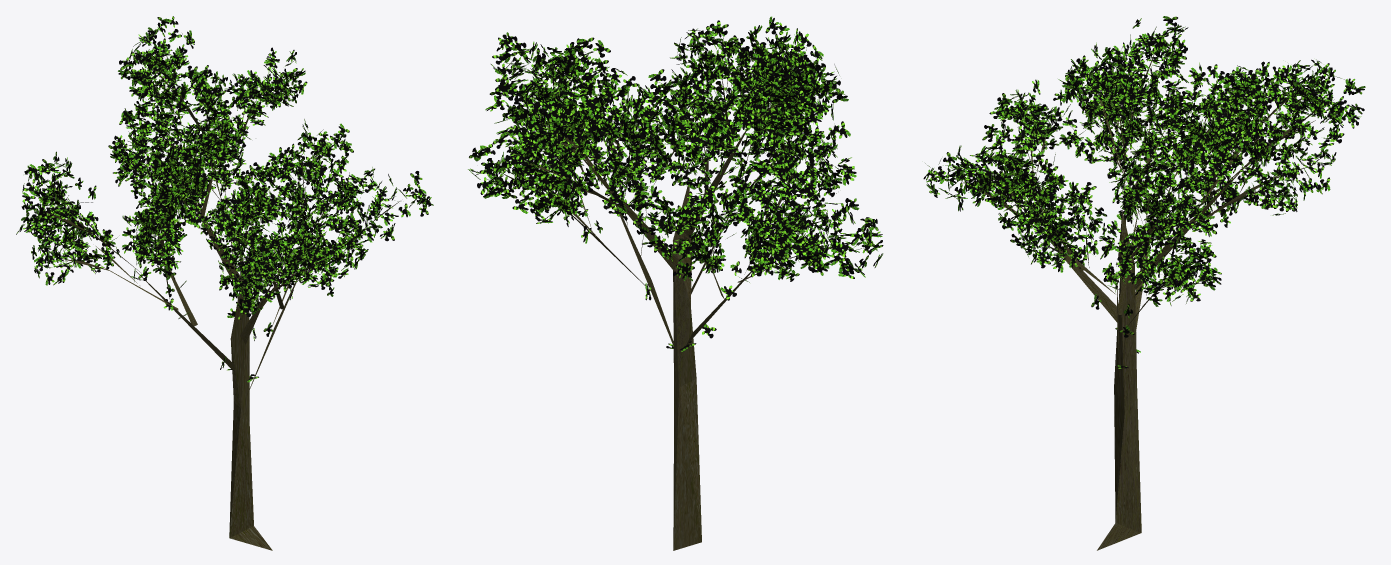
File: emergent_fig_v02_LOD2.fbx
The picture shows the model from 3 angles, left to right: view 1: azimuth 30°, elevation 25°; view 2: azimuth 150°, elevation 25°; view 3: azimuth 270°, elevation 25°; orthographic projection. The views are drawn at different scales.
Parts seen in each view (by area): view 1: emergent_fig_v02_LOD2; view 2: emergent_fig_v02_LOD2; view 3: emergent_fig_v02_LOD2.
Boxes of the visible parts, x1,y1,x2,y2 form: emergent_fig_v02_LOD2: (16, 16, 433, 550); emergent_fig_v02_LOD2: (468, 16, 883, 550); emergent_fig_v02_LOD2: (923, 16, 1365, 550).
Size of the model in its own units: 3475 by 3794 by 4385.
2 materials, 2 textured.
